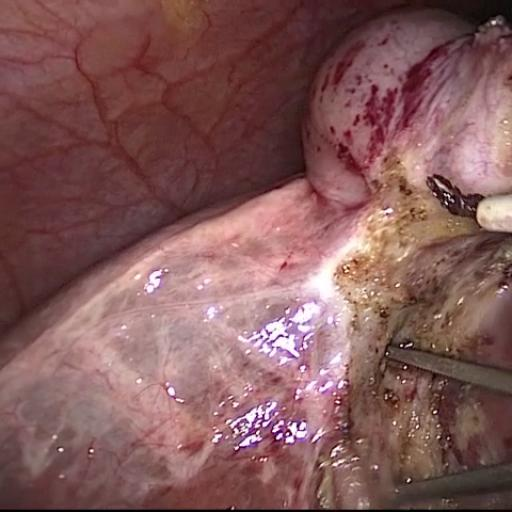Grasper: (362, 330, 512, 512)
Hook: (426, 159, 512, 260)
